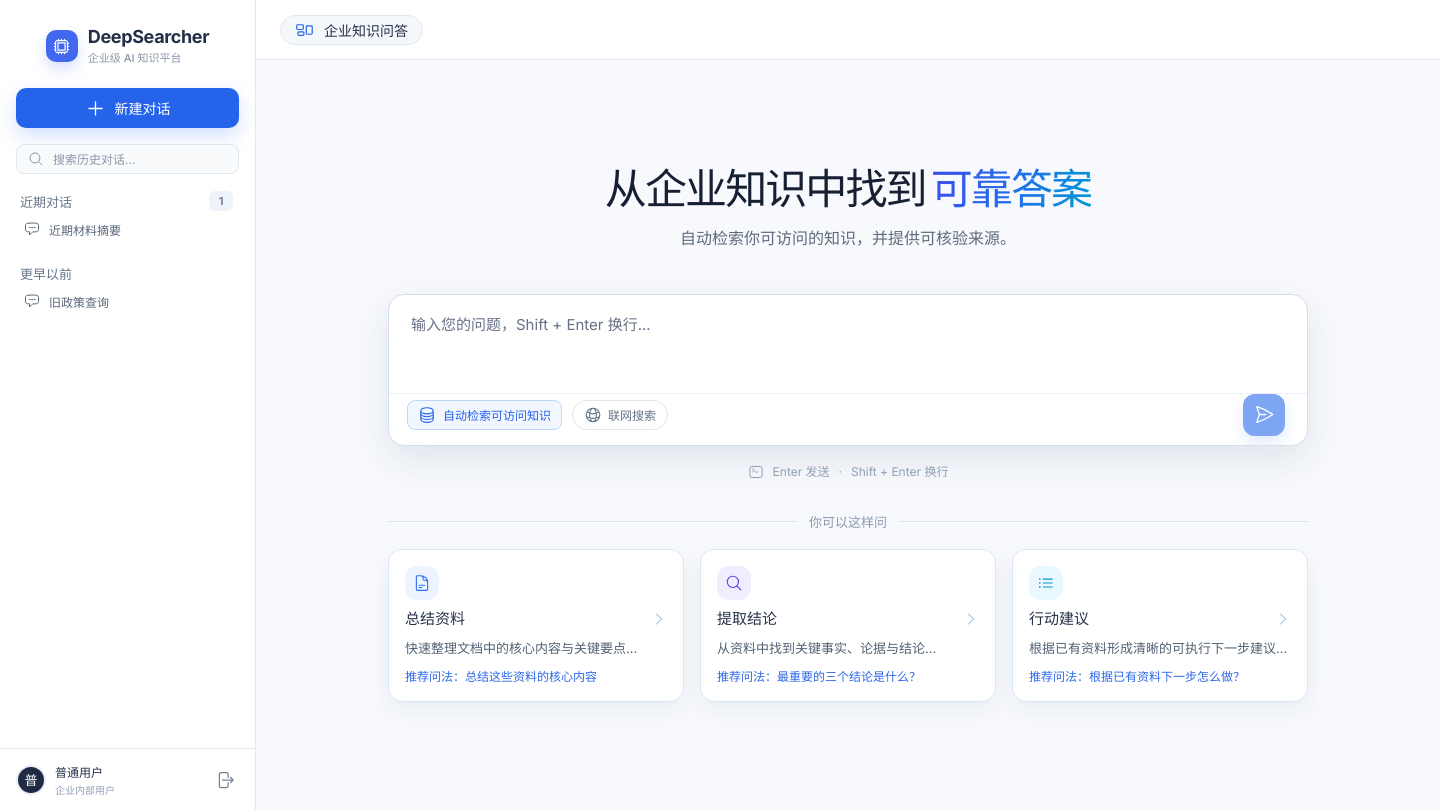
Scenario: 历史对话按最近七天分组，并支持本地过滤
The width and height of the screenshot is (1440, 810).
Expected: the text "近期对话" is shown, [20, 192, 72, 210]
Expected: the text "更早以前" is shown, [20, 264, 72, 282]
Type "旧" into the search field labelled "搜索历史对话" at (128, 159), box [16, 144, 239, 174]
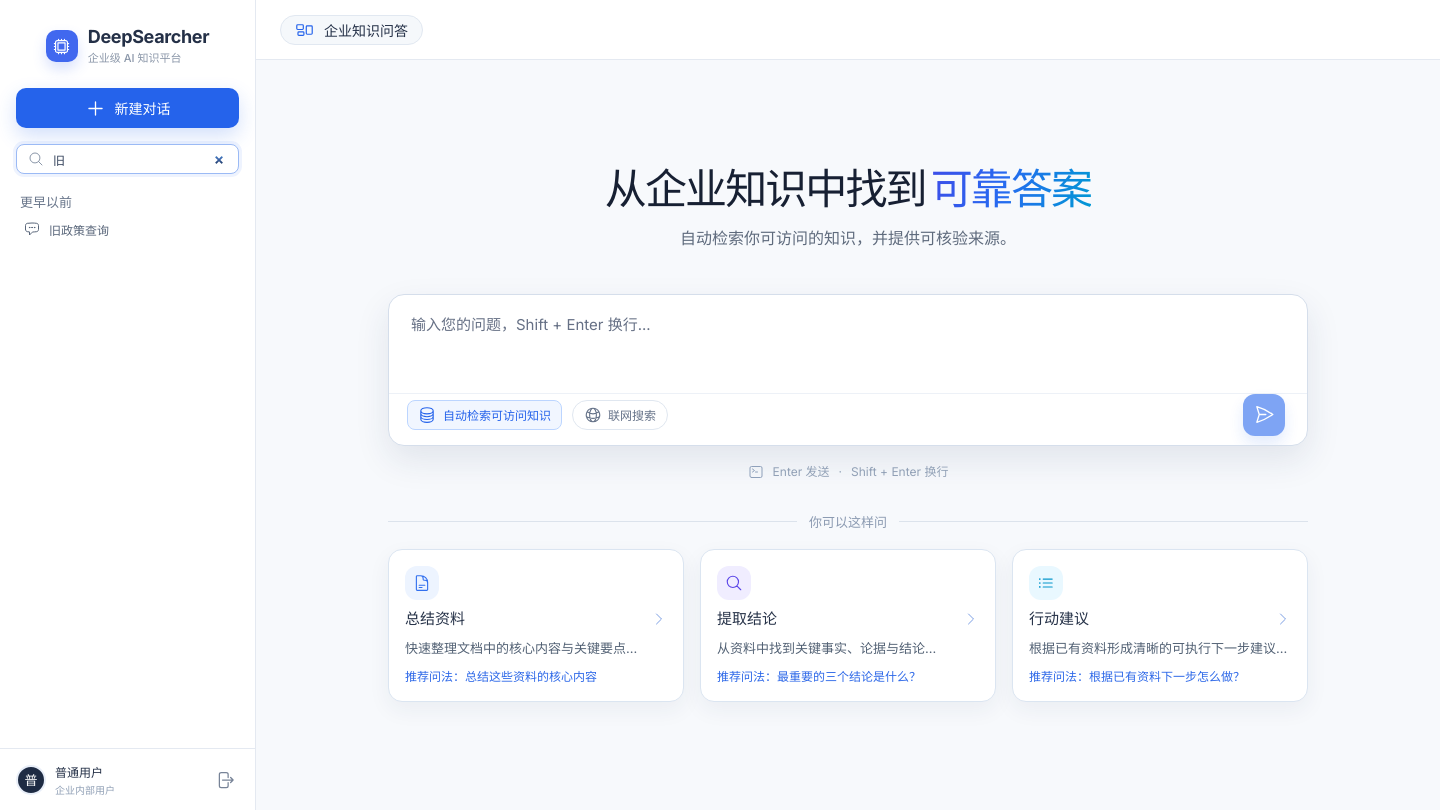
Expected: the text "旧政策查询" is shown, [49, 220, 109, 238]
Now the link "近期材料摘要" is gone
